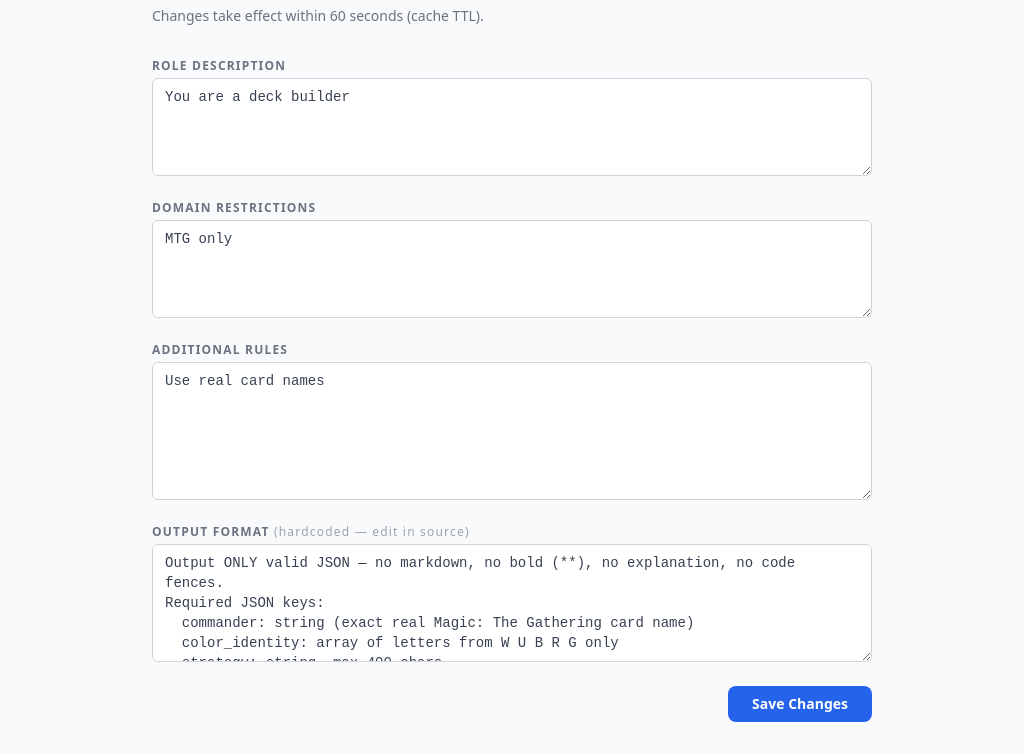
Test: AdminMasterPrompt › shows error message when save fails
The width and height of the screenshot is (1024, 754).
(page scrolled)
Expected: the text box showing "You are a deck builder" below "Role Description" is shown, [152, 78, 872, 176]
Click the button "Save Changes". click: (800, 704)
box: [728, 686, 872, 722]
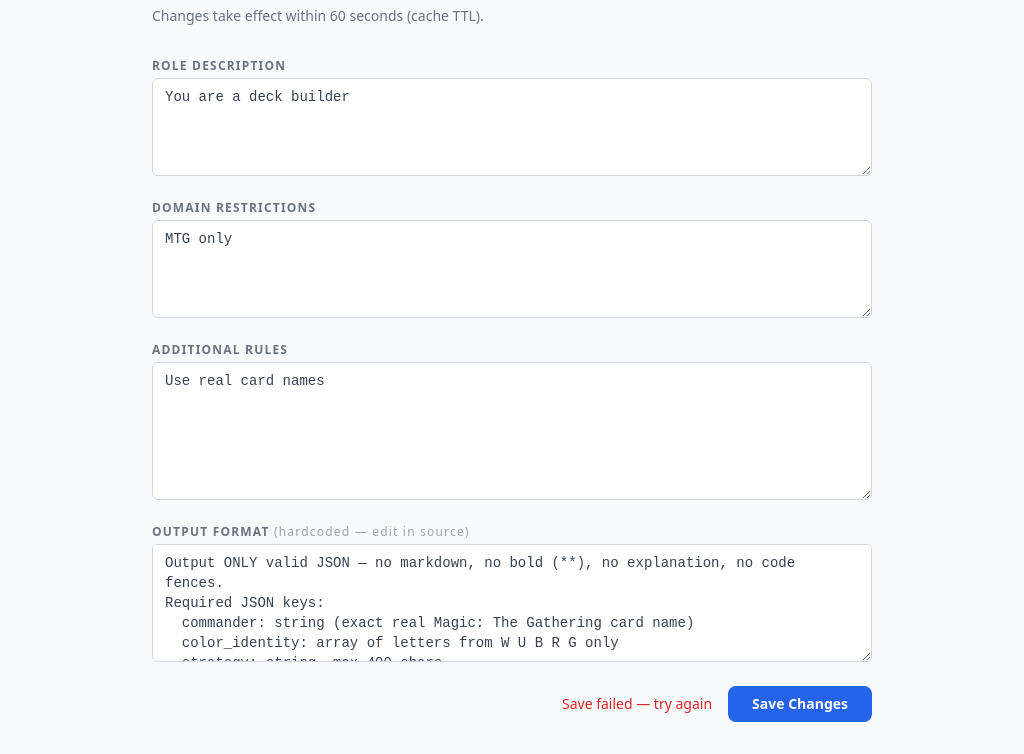
Now the text "Save failed — try again" is shown, box [562, 694, 712, 714]
